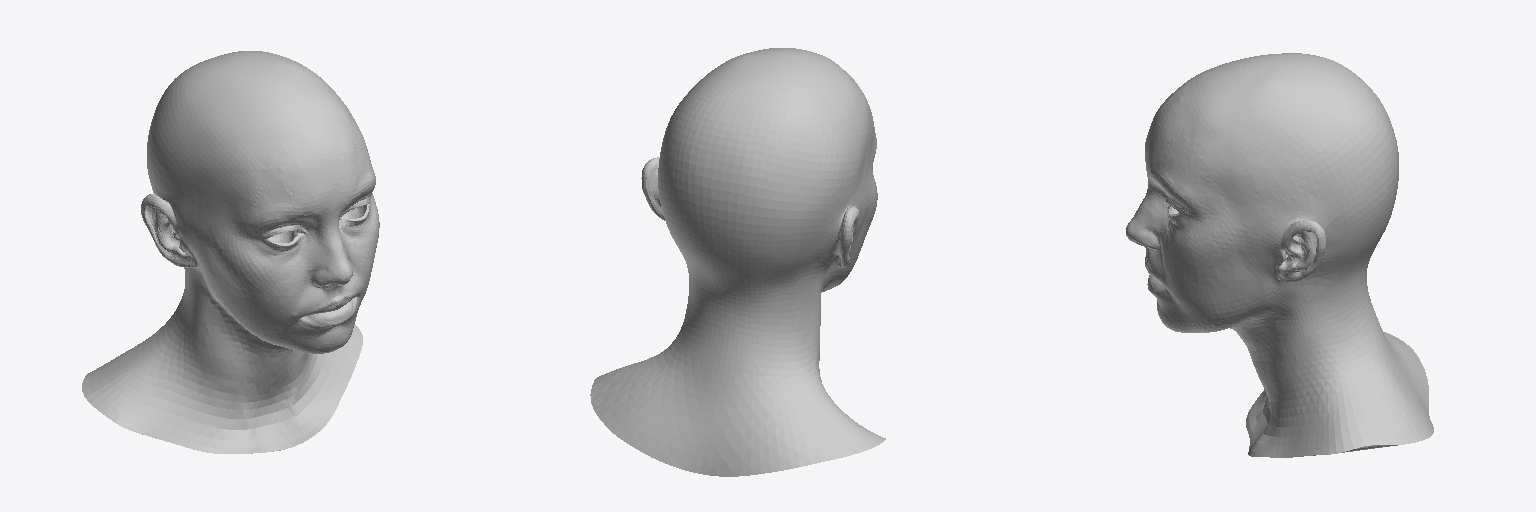
The model's file is Corrected_Emily_2_1_closed_color.obj.
3 renders of one model, left to right at view 1: azimuth 30°, elevation 25°; view 2: azimuth 150°, elevation 25°; view 3: azimuth 270°, elevation 25°, orthographic.
Size of the model in its own units: 22.74 by 30.68 by 22.37.